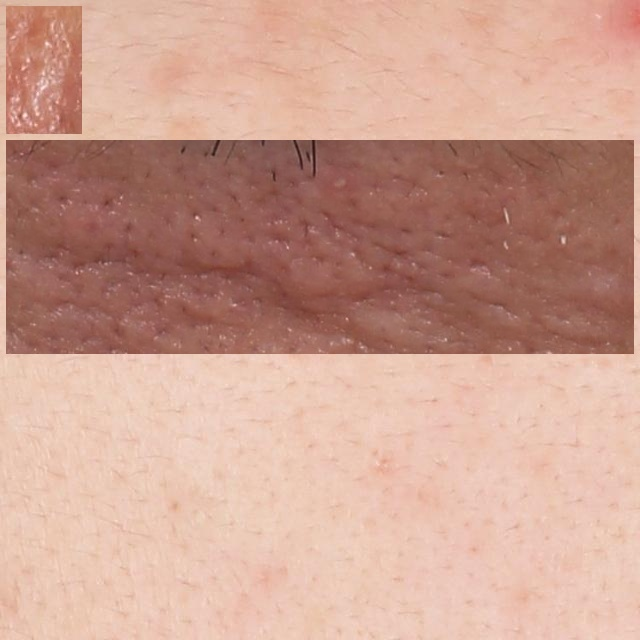hypertrophic_scar: (13, 147, 627, 347), (14, 14, 74, 126)
